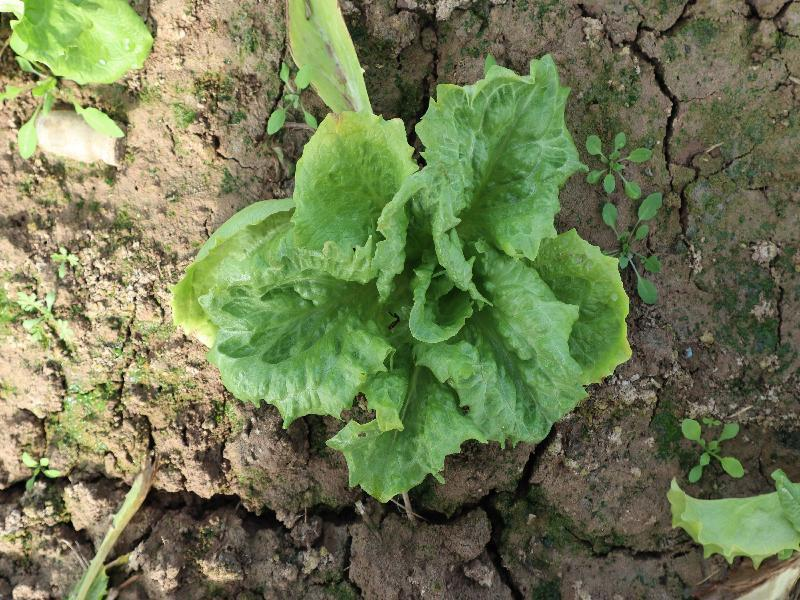lettuce: (173, 53, 633, 501)
